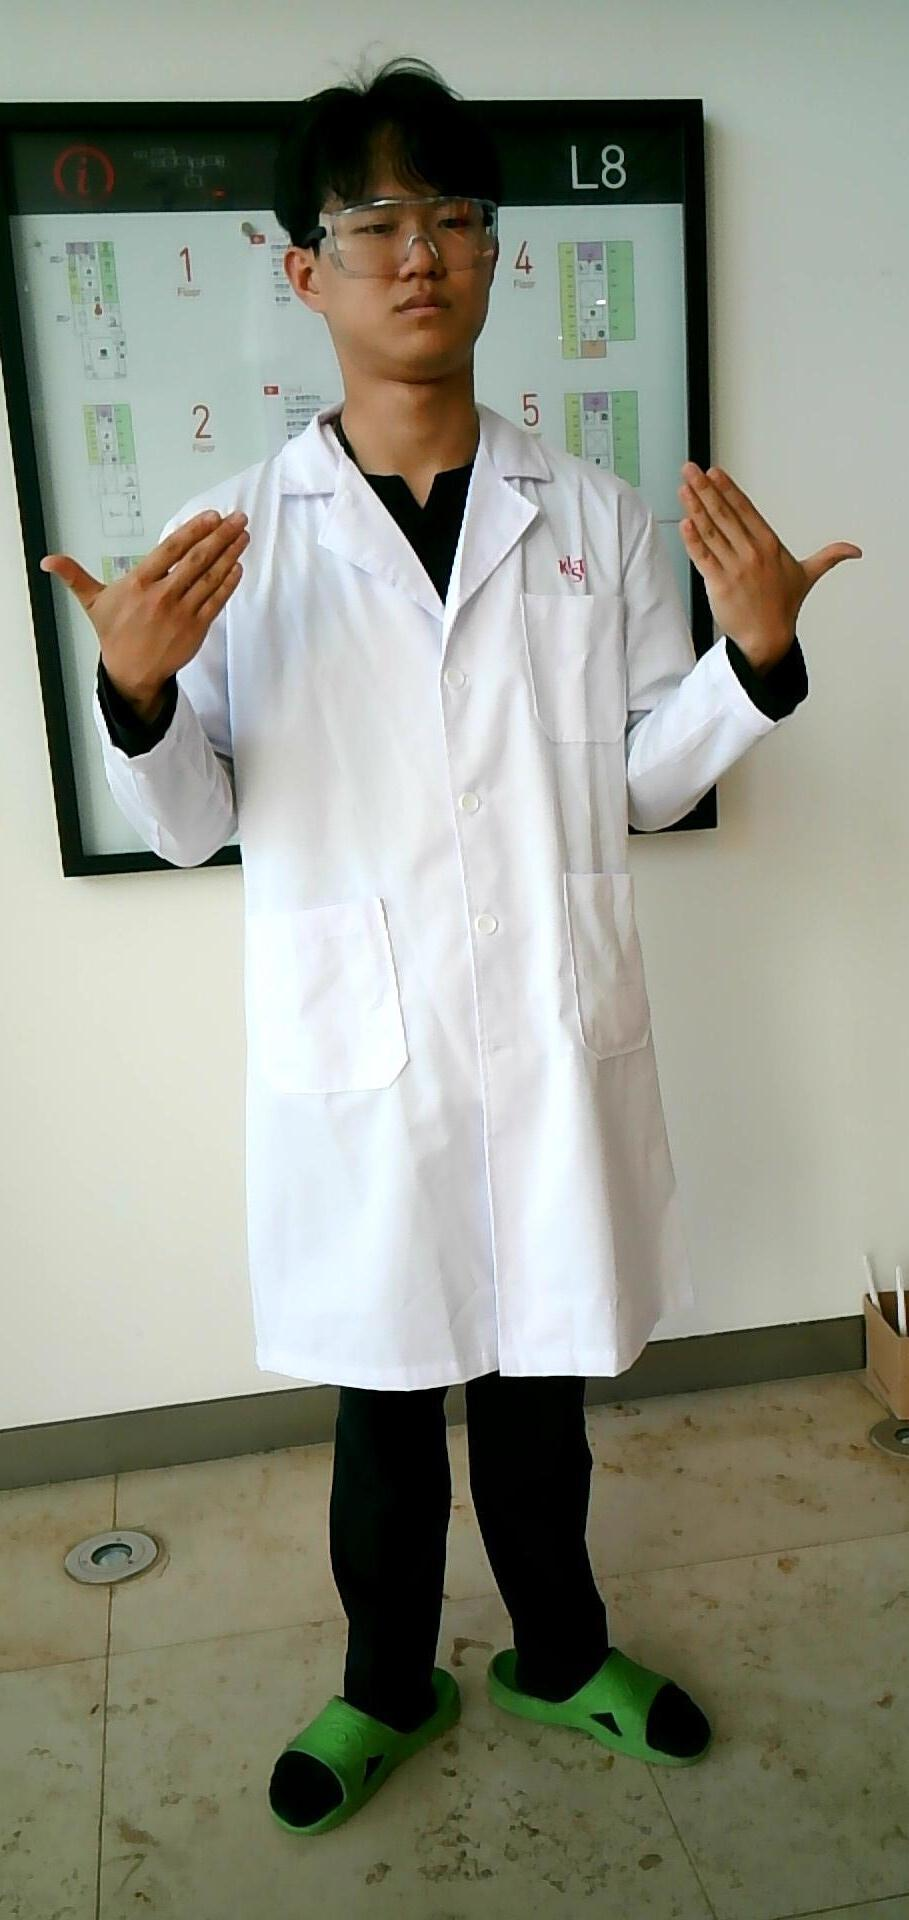lab_coat: (234, 478, 641, 1387)
